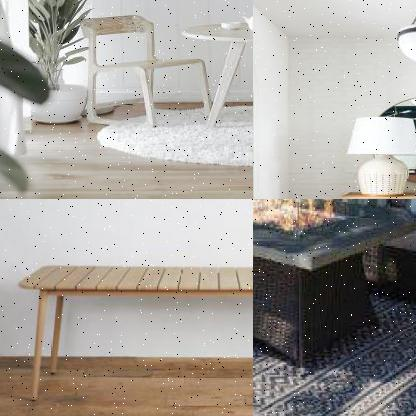table: (14, 260, 252, 407), (253, 199, 415, 370), (177, 16, 252, 148)
